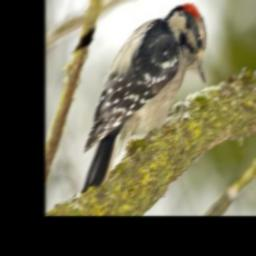Woodpecker: (70, 0, 207, 201)
